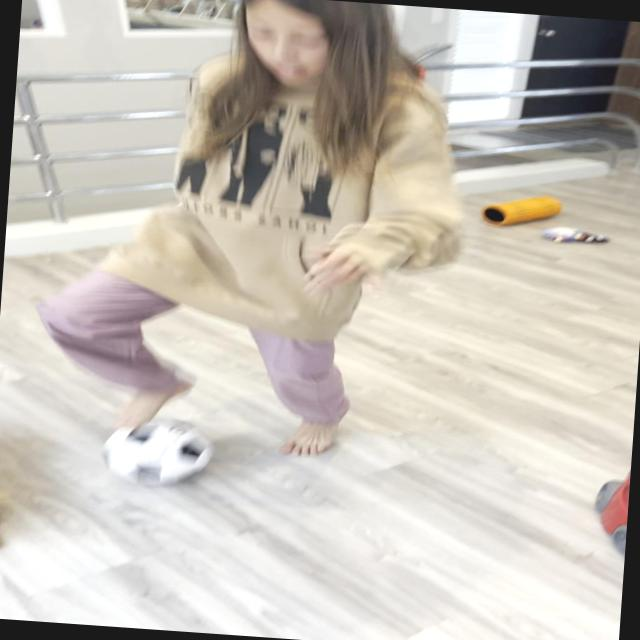Soccer Ball: (99, 414, 214, 488)
